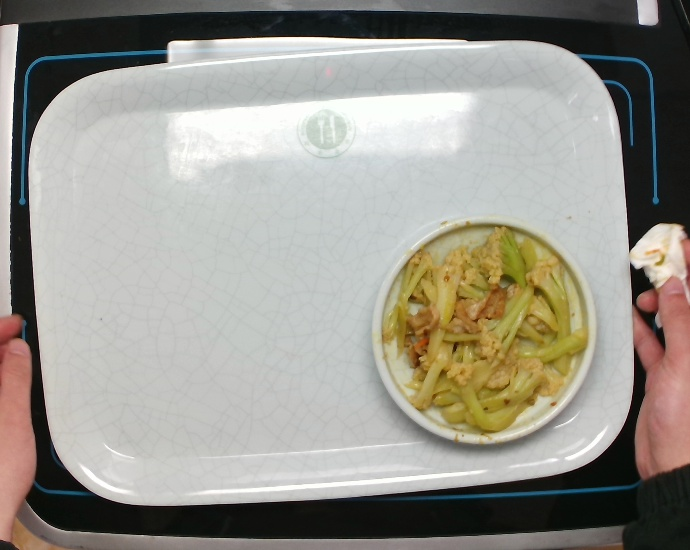JYsf-Xiao_Yuan_Pan: (368, 210, 604, 457)
